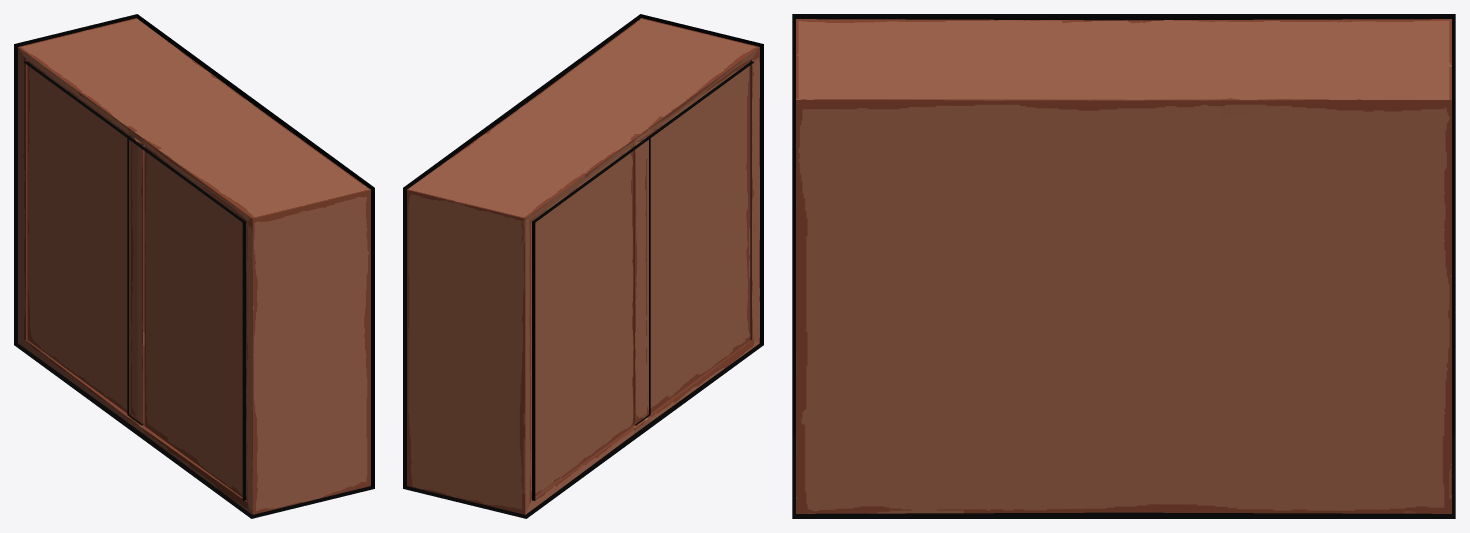
File: RoomCabinetV1.fbx
The picture shows the model from 3 angles, left to right: view 1: azimuth 30°, elevation 25°; view 2: azimuth 150°, elevation 25°; view 3: azimuth 270°, elevation 25°; orthographic projection. The views are drawn at different scales.
Parts seen in each view (by area): view 1: Cabinet; view 2: Cabinet; view 3: Cabinet.
Boxes of the visible parts, x1,y1,x2,y2 form: Cabinet: (14,14,374,518); Cabinet: (403,14,763,518); Cabinet: (792,14,1455,518).
Size of the model in its own units: 30 by 70 by 100.
Materials: 2 (1 with a texture image).
